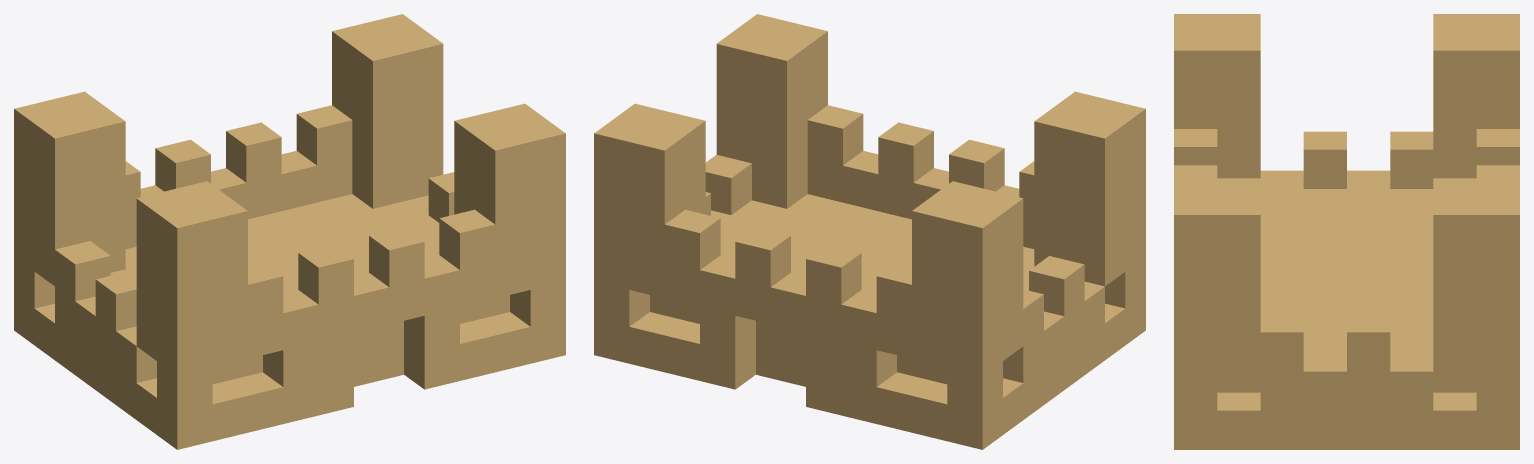
Rendered from id-beach-sandcastle.obj.
The picture shows the model from 3 angles, left to right: view 1: azimuth 30°, elevation 25°; view 2: azimuth 150°, elevation 25°; view 3: azimuth 270°, elevation 25°; orthographic projection. The views are drawn at different scales.
Size of the model in its own units: 11 by 6 by 8.
1 material, 1 textured.
